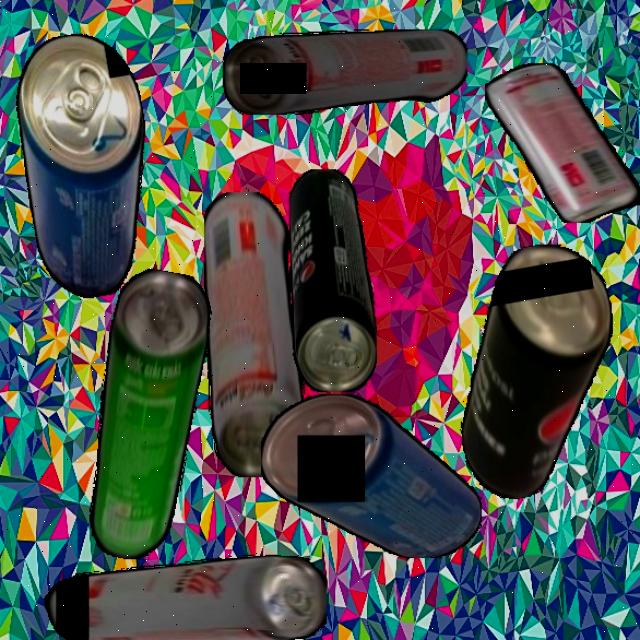debris: (431, 234, 640, 506), (3, 25, 173, 305), (72, 264, 219, 566), (261, 393, 482, 558), (203, 191, 305, 477), (485, 62, 640, 223), (41, 555, 327, 640), (223, 28, 467, 115), (288, 168, 377, 392)
